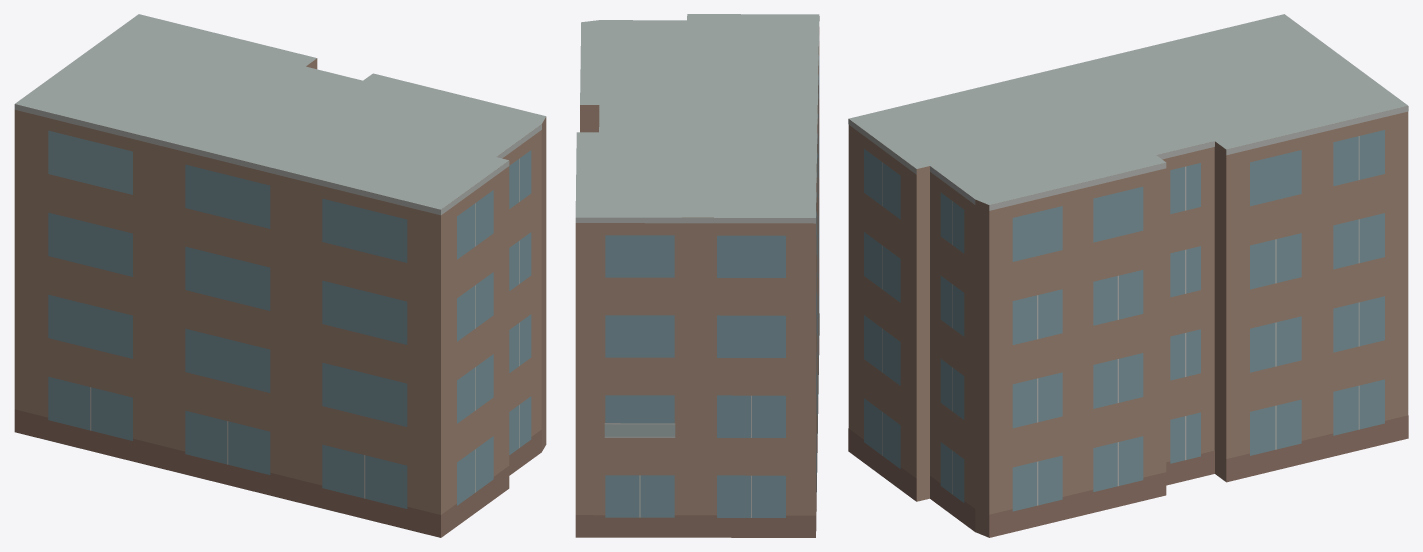
Rendered from survey-upis-32618372.glb.
The picture shows the model from 3 angles, left to right: view 1: azimuth 30°, elevation 25°; view 2: azimuth 150°, elevation 25°; view 3: azimuth 270°, elevation 25°; orthographic projection. The views are drawn at different scales.
Parts seen in each view (by area): view 1: survey-upis-32618372.tmp; view 2: survey-upis-32618372.tmp; view 3: survey-upis-32618372.tmp.
Boxes of the visible parts, x1,y1,x2,y2 form: survey-upis-32618372.tmp: [14, 14, 546, 537]; survey-upis-32618372.tmp: [575, 14, 819, 537]; survey-upis-32618372.tmp: [848, 14, 1408, 537].
Bounding box in the file's own units: 17.51 × 14.2 × 21.67.
